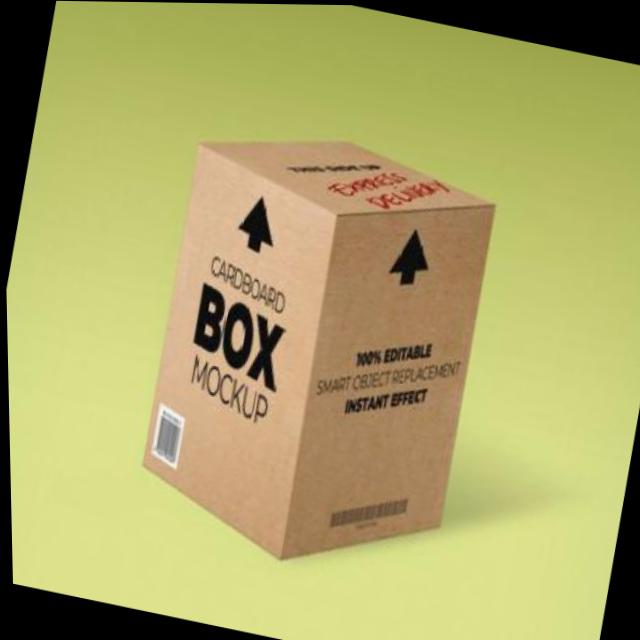box: (105, 88, 541, 606)
